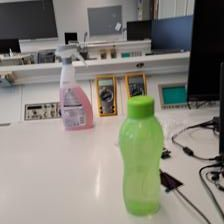bottle: (118, 94, 165, 215)
